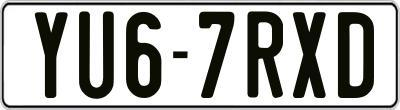6: (126, 9, 161, 95)
7: (198, 9, 237, 97)
D: (335, 10, 375, 96)
R: (246, 9, 285, 96)
U: (76, 9, 112, 99)
X: (290, 10, 329, 100)
Y: (34, 12, 68, 102)
